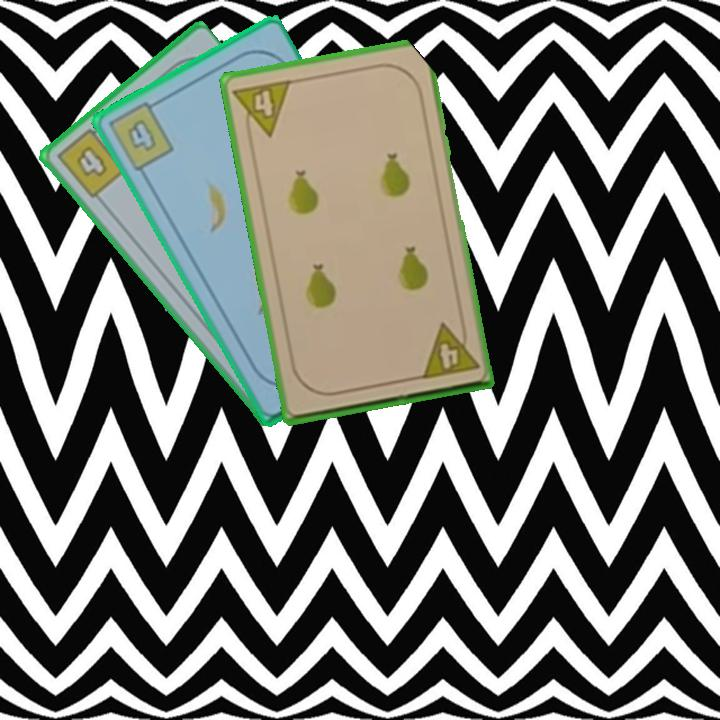4b: (53, 120, 128, 201), (104, 96, 177, 174)
4p: (229, 76, 294, 143), (417, 317, 482, 382)
